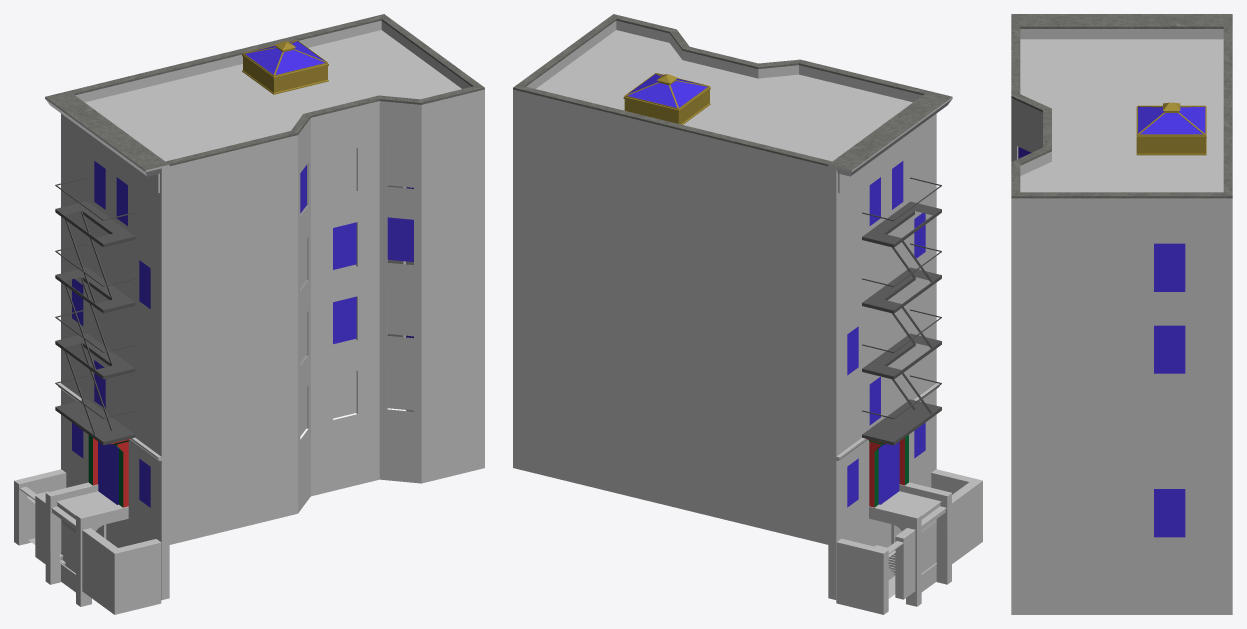
Rendered from mcp_building_15_LOD_1.FBX.
3 renders of one model, left to right at view 1: azimuth 30°, elevation 25°; view 2: azimuth 150°, elevation 25°; view 3: azimuth 270°, elevation 25°, orthographic. The views are drawn at different scales.
Visible parts, largest first — view 1: mcp_building_15_walls, mcp_building_15, mcp_building_15_roof, mcp_building_15_concrete_01, mcp_building_15_props_01, mcp_building_15_concrete_03, mcp_building_15_props_02; view 2: mcp_building_15_walls, mcp_building_15_roof, mcp_building_15, mcp_building_15_concrete_01, mcp_building_15_props_01, mcp_building_15_concrete_03, mcp_building_15_props_02; view 3: mcp_building_15_walls, mcp_building_15_roof, mcp_building_15, mcp_building_15_concrete_03, mcp_building_15_props_02.
Part boxes in pixels (x1=…): mcp_building_15_walls: x1=58, y1=20, x2=484, y2=600; mcp_building_15: x1=45, y1=91, x2=413, y2=547; mcp_building_15_roof: x1=85, y1=30, x2=461, y2=161; mcp_building_15_concrete_01: x1=14, y1=469, x2=161, y2=614; mcp_building_15_props_01: x1=55, y1=177, x2=135, y2=445; mcp_building_15_concrete_03: x1=69, y1=14, x2=484, y2=166; mcp_building_15_props_02: x1=242, y1=40, x2=328, y2=94; mcp_building_15_walls: x1=513, y1=20, x2=939, y2=599; mcp_building_15_roof: x1=536, y1=30, x2=912, y2=161; mcp_building_15: x1=828, y1=91, x2=952, y2=547; mcp_building_15_concrete_01: x1=836, y1=469, x2=982, y2=614; mcp_building_15_props_01: x1=862, y1=177, x2=941, y2=445; mcp_building_15_concrete_03: x1=513, y1=14, x2=928, y2=166; mcp_building_15_props_02: x1=623, y1=73, x2=710, y2=124; mcp_building_15_walls: x1=1011, y1=29, x2=1232, y2=614; mcp_building_15_roof: x1=1020, y1=39, x2=1223, y2=192; mcp_building_15: x1=1011, y1=14, x2=1232, y2=537; mcp_building_15_concrete_03: x1=1011, y1=26, x2=1232, y2=198; mcp_building_15_props_02: x1=1136, y1=102, x2=1206, y2=155.
Size of the model in its own units: 2128 by 2605 by 998.
